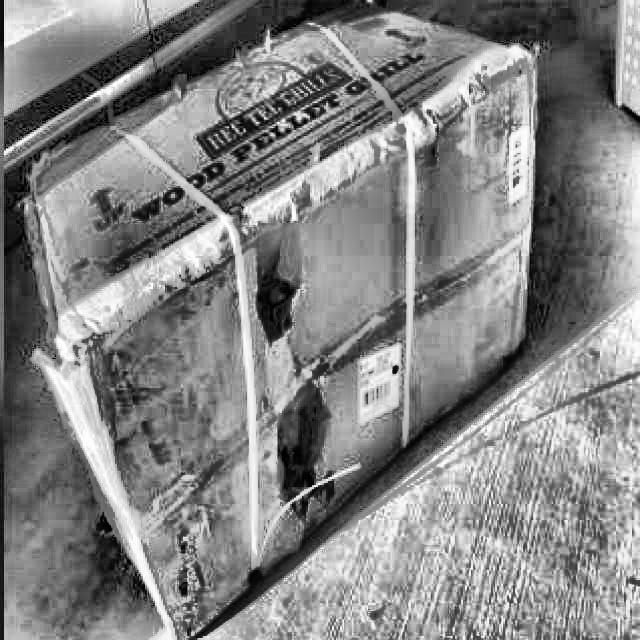box: (23, 1, 546, 639)
hole: (273, 397, 333, 523), (239, 253, 301, 348)
